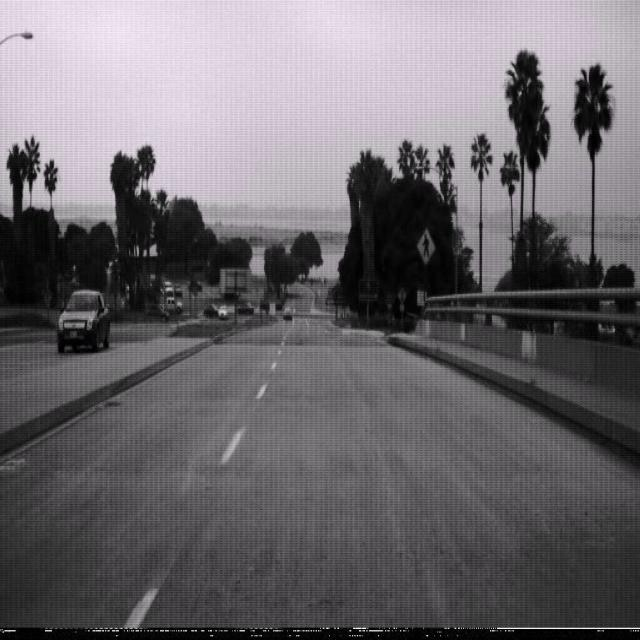pedestrianCrossing: (416, 227, 436, 266)
